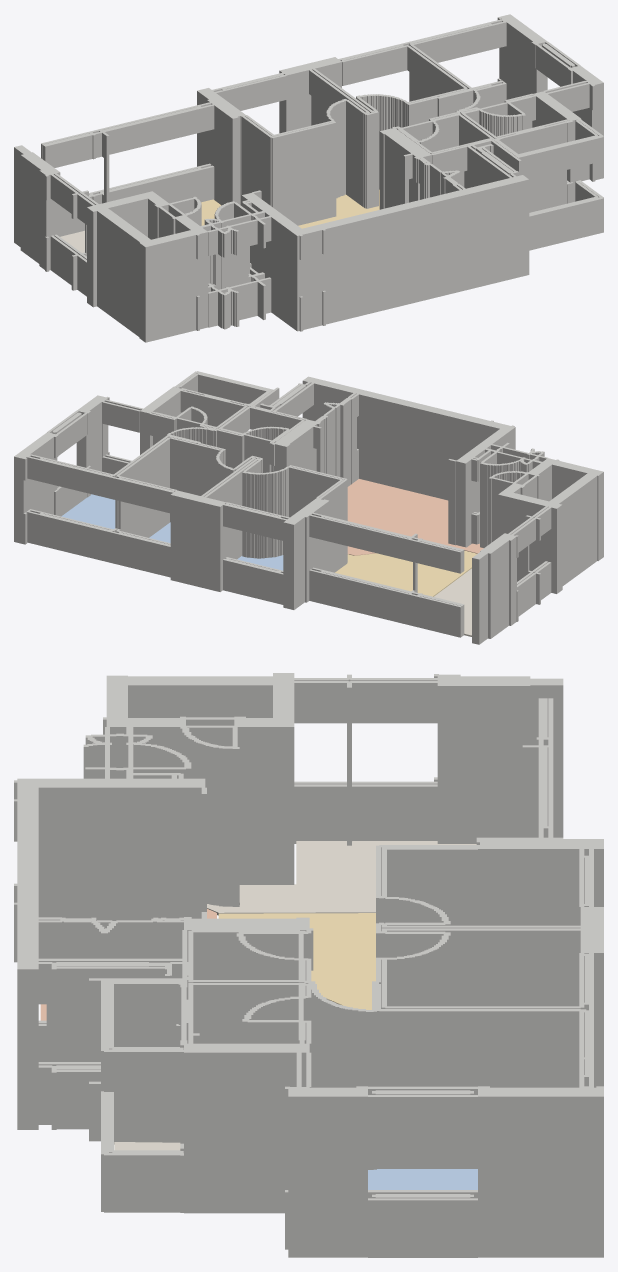
3 renders of one model, top to bottom at view 1: azimuth 30°, elevation 25°; view 2: azimuth 150°, elevation 25°; view 3: azimuth 270°, elevation 25°, orthographic. The views are drawn at different scales.
Visible parts, largest first — view 1: walls, room:living:4; view 2: walls, room:kitchen:5, room:living:4, room:bedroom:0, room:other:3, room:bedroom:1; view 3: walls, room:other:3, room:living:4, room:bedroom:0.
Part boxes in pixels (x1,y1,x2,y2): walls: [14, 14, 603, 342]; room:living:4: [201, 189, 379, 228]; walls: [14, 371, 603, 644]; room:kitchen:5: [347, 479, 483, 555]; room:living:4: [335, 550, 477, 596]; room:bedroom:0: [61, 494, 115, 529]; room:other:3: [434, 568, 471, 636]; room:bedroom:1: [237, 555, 283, 570]; walls: [14, 673, 603, 1257]; room:other:3: [207, 841, 476, 915]; room:living:4: [218, 913, 375, 1009]; room:bedroom:0: [368, 1169, 477, 1189].
Bounding box in the file's own units: 15.83 × 2.8 × 9.31.
